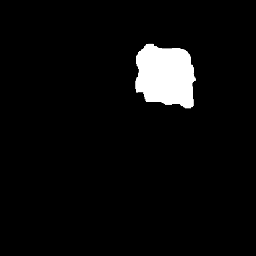mass: (137, 50, 196, 110)
